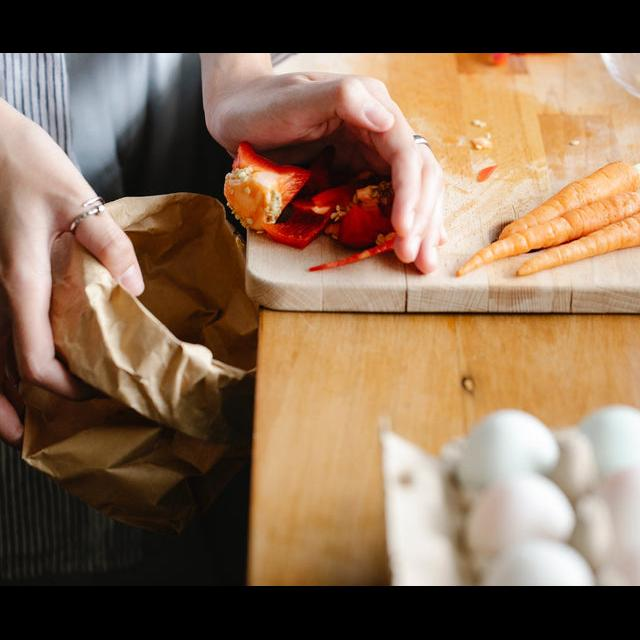food_waste: (472, 180, 640, 267), (457, 451, 556, 552), (446, 389, 542, 472), (272, 187, 375, 256), (574, 391, 640, 485), (193, 151, 274, 222), (592, 452, 640, 550)
